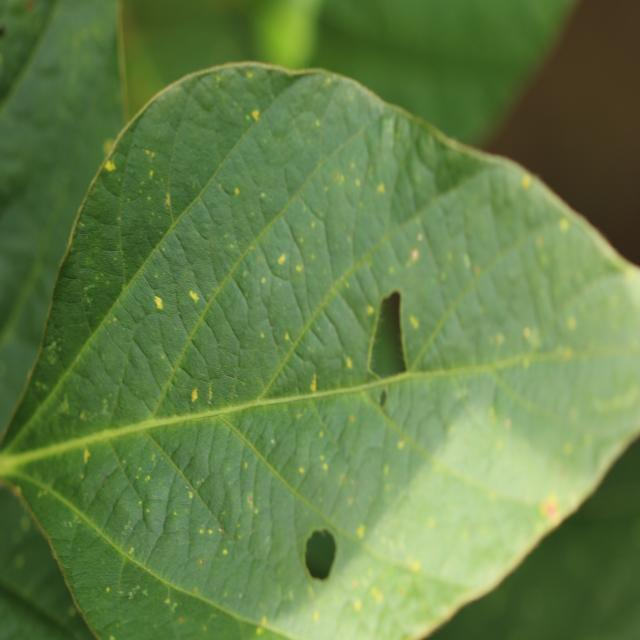Soybean: (0, 61, 640, 640)
downey_mildew: (141, 123, 402, 576), (9, 103, 218, 452), (8, 405, 192, 628), (396, 201, 596, 388), (368, 437, 549, 600), (162, 116, 264, 393), (243, 386, 386, 571), (353, 159, 483, 361), (1, 0, 122, 209), (231, 191, 346, 395), (521, 462, 640, 634), (0, 140, 80, 378), (515, 272, 640, 417), (270, 543, 452, 640), (508, 169, 634, 303), (155, 402, 270, 546), (416, 403, 552, 515), (69, 160, 146, 326), (317, 117, 385, 296), (111, 390, 308, 450), (147, 226, 227, 367), (116, 133, 187, 284), (161, 87, 217, 258), (72, 311, 144, 441), (381, 115, 461, 230), (134, 563, 252, 639), (229, 371, 423, 416), (0, 298, 53, 452), (5, 419, 145, 477), (424, 506, 526, 585), (62, 521, 138, 627), (188, 184, 254, 301), (0, 559, 94, 639), (505, 224, 572, 335), (184, 66, 280, 136), (259, 218, 329, 313), (173, 351, 259, 416), (313, 277, 370, 371), (48, 10, 111, 94), (129, 308, 183, 401), (486, 339, 620, 375), (262, 265, 309, 363), (280, 193, 328, 288), (187, 494, 242, 573), (199, 278, 247, 364), (0, 123, 39, 224), (425, 137, 487, 199), (160, 464, 200, 544), (76, 437, 121, 507), (280, 111, 327, 173), (115, 154, 133, 301), (227, 285, 243, 407), (375, 114, 400, 184), (140, 491, 170, 536), (173, 302, 198, 356), (164, 582, 183, 637), (37, 58, 63, 80), (216, 179, 241, 200), (56, 394, 71, 415), (382, 116, 395, 134), (463, 253, 471, 269)
